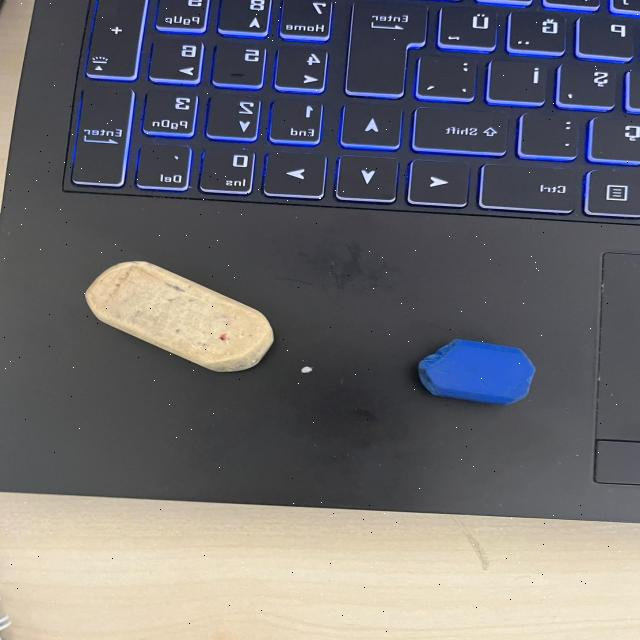eraser: (76, 247, 284, 389), (412, 334, 551, 411)
